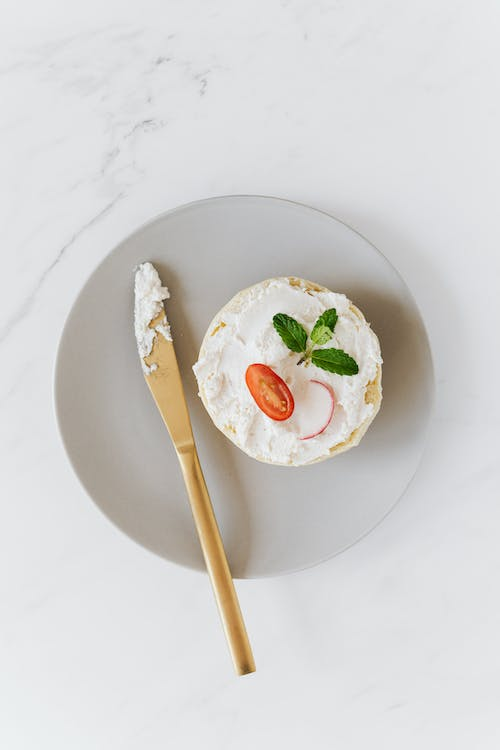knife: (132, 257, 259, 679)
